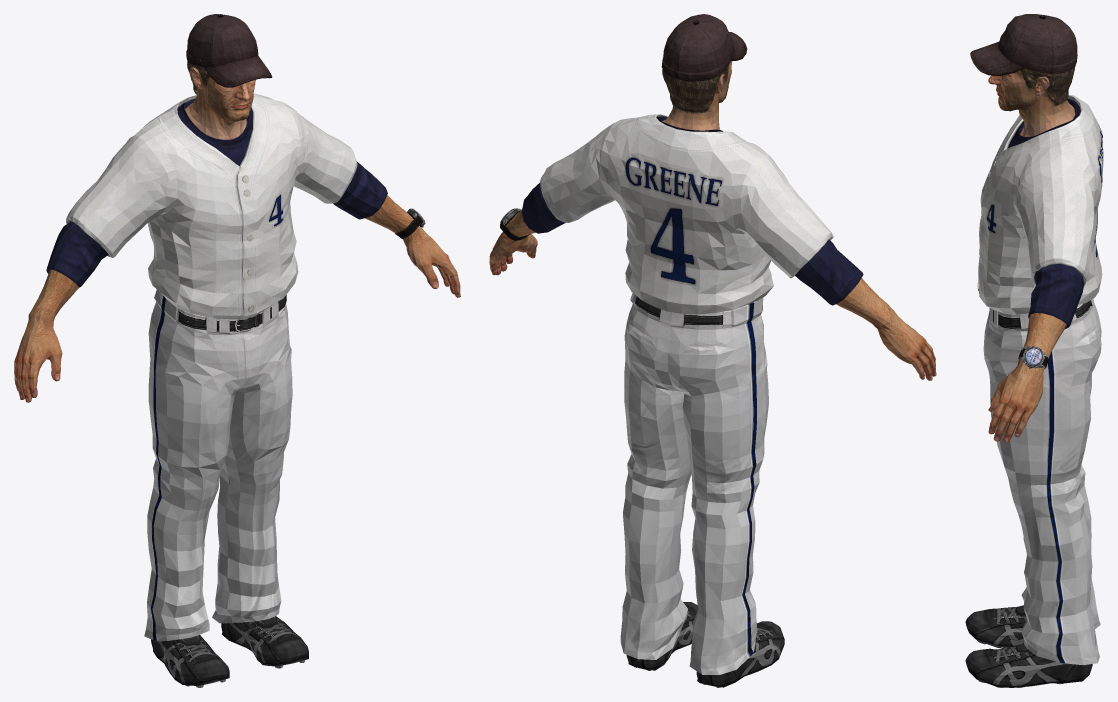
The model's file is player.obj.
3 views of the same model, side by side, from view 1: azimuth 30°, elevation 25°; view 2: azimuth 150°, elevation 25°; view 3: azimuth 270°, elevation 25° (orthographic).
Parts seen in each view (by area): view 1: Mesh_2076.rip_Tex_016, Mesh_2075.rip_Tex_015, Mesh_2072.rip_Tex_015, Mesh_0068.rip_Mes_Mes, Mesh_2068.rip_Tex_013, Mesh_0068.rip_Mes.016, Mesh_2067.rip_Tex_013, Mesh_2078.rip_Tex_013, Mesh_0831.rip_Tex; view 2: Mesh_2076.rip_Tex_016, Mesh_2075.rip_Tex_015, Mesh_2068.rip_Tex_013, Mesh_2072.rip_Tex_015, Mesh_0068.rip_Mes_Mes, Mesh_2078.rip_Tex_013, Mesh_0831.rip_Tex, Mesh_0068.rip_Mes.029, Mesh_0068.rip_Mes.016, Mesh_2067.rip_Tex_013; view 3: Mesh_2076.rip_Tex_016, Mesh_2075.rip_Tex_015, Mesh_2068.rip_Tex_013, Mesh_2067.rip_Tex_013, Mesh_0068.rip_Mes.016, Mesh_0068.rip_Mes_Mes, Mesh_2072.rip_Tex_015, Mesh_2078.rip_Tex_013, Mesh_0831.rip_Tex, Mesh_0068.rip_Mes.029, Mesh_0637.rip_Tex.
Part boxes in pixels (x1,y1,x2,y2): Mesh_2076.rip_Tex_016: (144, 289, 292, 641); Mesh_2075.rip_Tex_015: (66, 93, 357, 319); Mesh_2072.rip_Tex_015: (46, 98, 387, 287); Mesh_0068.rip_Mes_Mes: (14, 218, 460, 402); Mesh_2068.rip_Tex_013: (186, 14, 272, 87); Mesh_0068.rip_Mes.016: (185, 67, 255, 139); Mesh_2067.rip_Tex_013: (221, 616, 308, 668); Mesh_2078.rip_Tex_013: (151, 635, 229, 687); Mesh_0831.rip_Tex: (32, 195, 412, 316); Mesh_2076.rip_Tex_016: (620, 293, 768, 674); Mesh_2075.rip_Tex_015: (540, 114, 833, 314); Mesh_2068.rip_Tex_013: (661, 14, 747, 81); Mesh_2072.rip_Tex_015: (522, 116, 863, 305); Mesh_0068.rip_Mes_Mes: (489, 224, 936, 380); Mesh_2078.rip_Tex_013: (696, 621, 784, 687); Mesh_0831.rip_Tex: (507, 209, 887, 323); Mesh_0068.rip_Mes.029: (662, 65, 728, 113); Mesh_0068.rip_Mes.016: (662, 61, 732, 130); Mesh_2067.rip_Tex_013: (626, 602, 698, 670); Mesh_2076.rip_Tex_016: (983, 298, 1101, 664); Mesh_2075.rip_Tex_015: (977, 95, 1103, 314); Mesh_2068.rip_Tex_013: (970, 14, 1077, 75); Mesh_2067.rip_Tex_013: (965, 643, 1092, 687); Mesh_0068.rip_Mes.016: (988, 70, 1075, 136); Mesh_0068.rip_Mes_Mes: (988, 351, 1045, 442); Mesh_2072.rip_Tex_015: (1007, 99, 1084, 328); Mesh_2078.rip_Tex_013: (965, 605, 1026, 647); Mesh_0831.rip_Tex: (1023, 313, 1066, 358); Mesh_0068.rip_Mes.029: (1020, 67, 1074, 105); Mesh_0637.rip_Tex: (1018, 346, 1048, 368).
Size of the model in its own units: 1.31 by 1.84 by 0.357.
